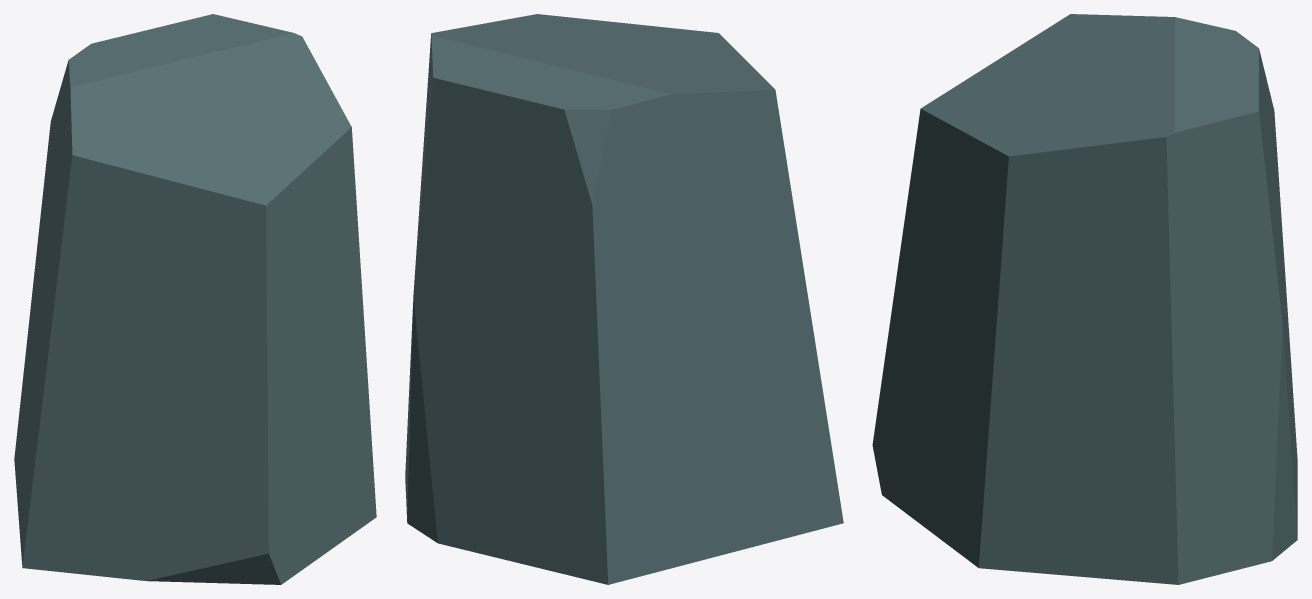
File: brigesCube_005.fbx
3 views of the same model, side by side, from view 1: azimuth 30°, elevation 25°; view 2: azimuth 150°, elevation 25°; view 3: azimuth 270°, elevation 25° (orthographic). The views are drawn at different scales.
Visible parts, largest first — view 1: Cube.005; view 2: Cube.005; view 3: Cube.005.
Boxes of the visible parts, box(x1,y1,x2,y2) form: Cube.005: box(14, 14, 376, 584); Cube.005: box(405, 14, 843, 584); Cube.005: box(872, 14, 1297, 584).
Size of the model in its own units: 86.83 by 98.17 by 85.88.
